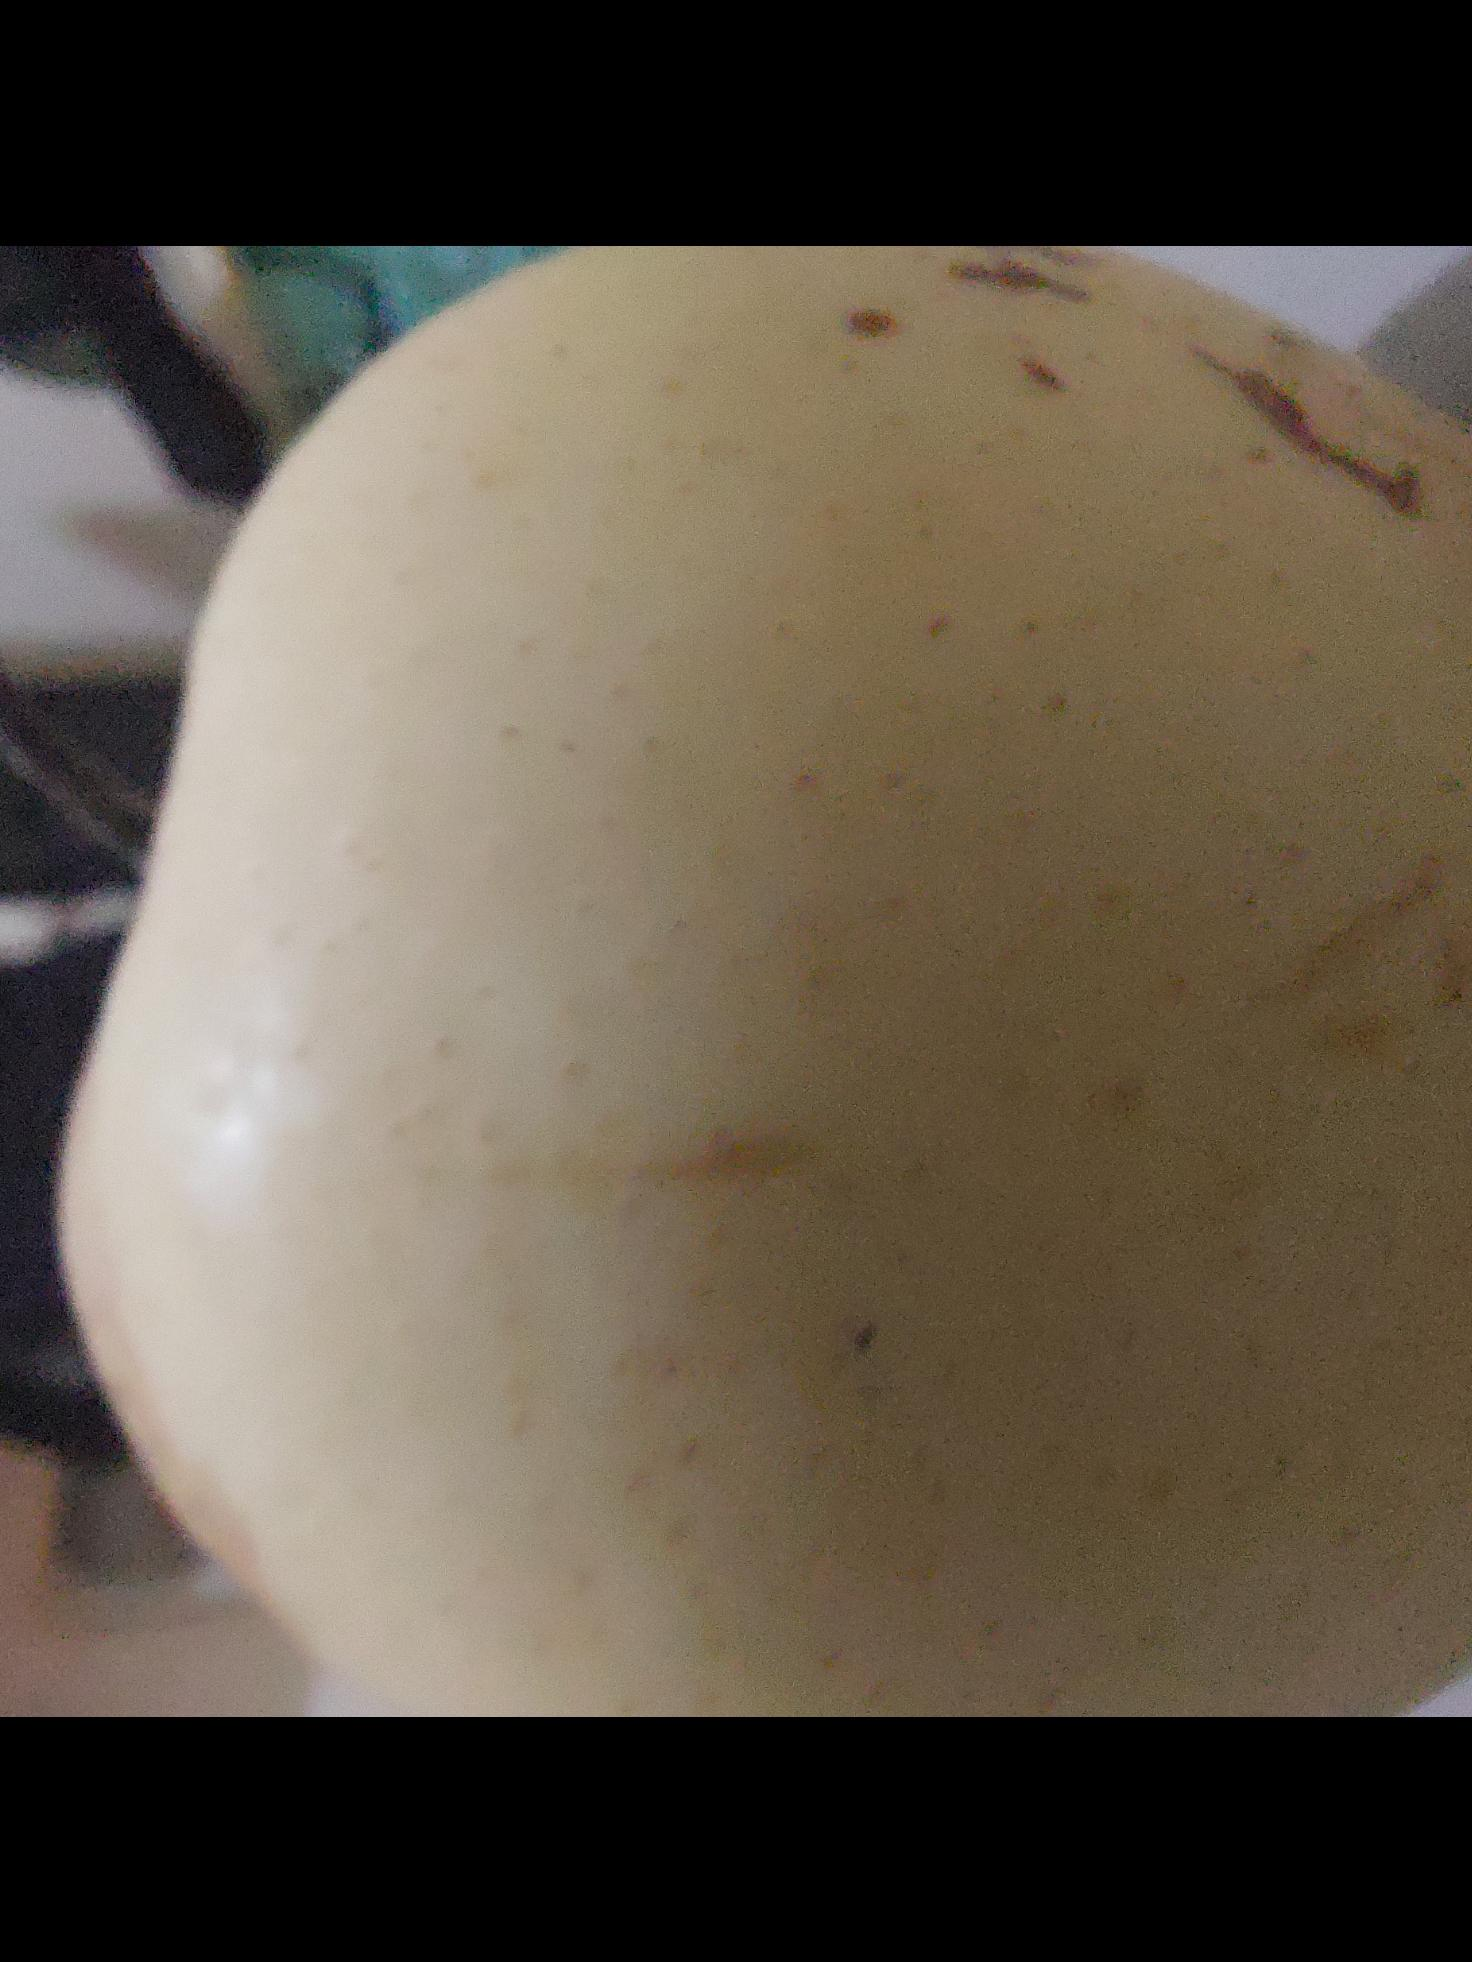Bad Pear: (32, 244, 1472, 1718)
